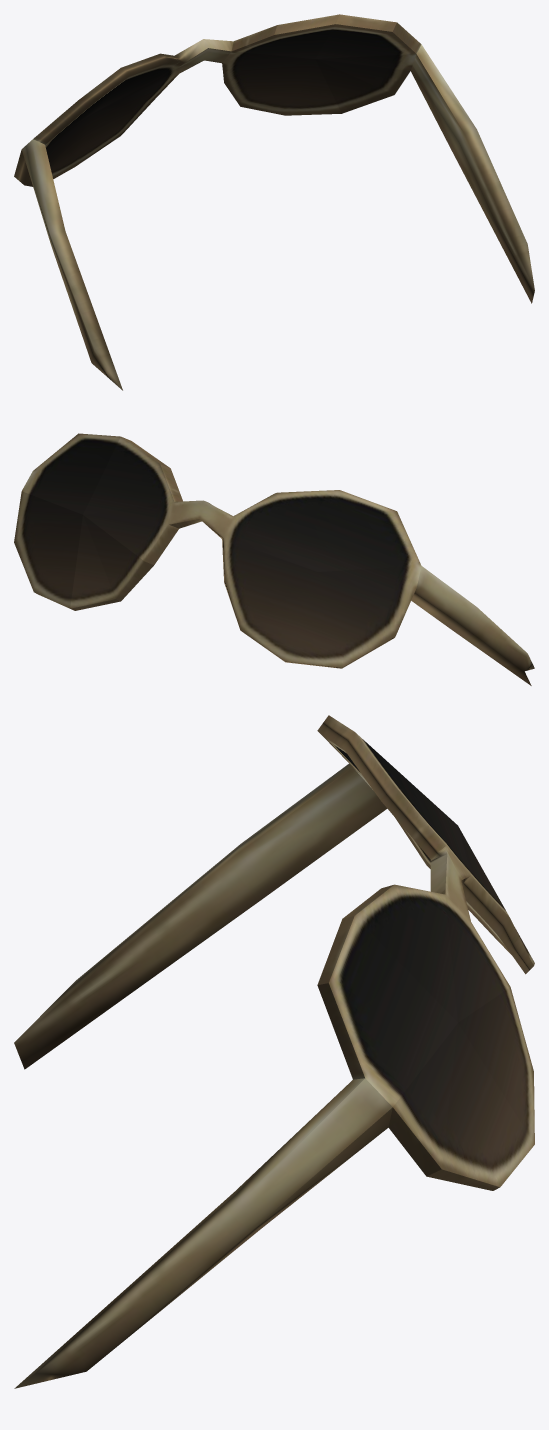
File: summerGlasses.glb
3 views of the same model, one above another, from view 1: azimuth 30°, elevation 25°; view 2: azimuth 150°, elevation 25°; view 3: azimuth 270°, elevation 25° (orthographic). The views are drawn at different scales.
Parts seen in each view (by area): view 1: summerGlasses; view 2: summerGlasses; view 3: summerGlasses.
Boxes of the visible parts, x1,y1,x2,y2 form: summerGlasses: [14, 14, 534, 390]; summerGlasses: [14, 433, 534, 685]; summerGlasses: [14, 715, 534, 1388].
Size of the model in its own units: 0.1967 by 0.1055 by 0.1189.
1 material, 1 textured.
